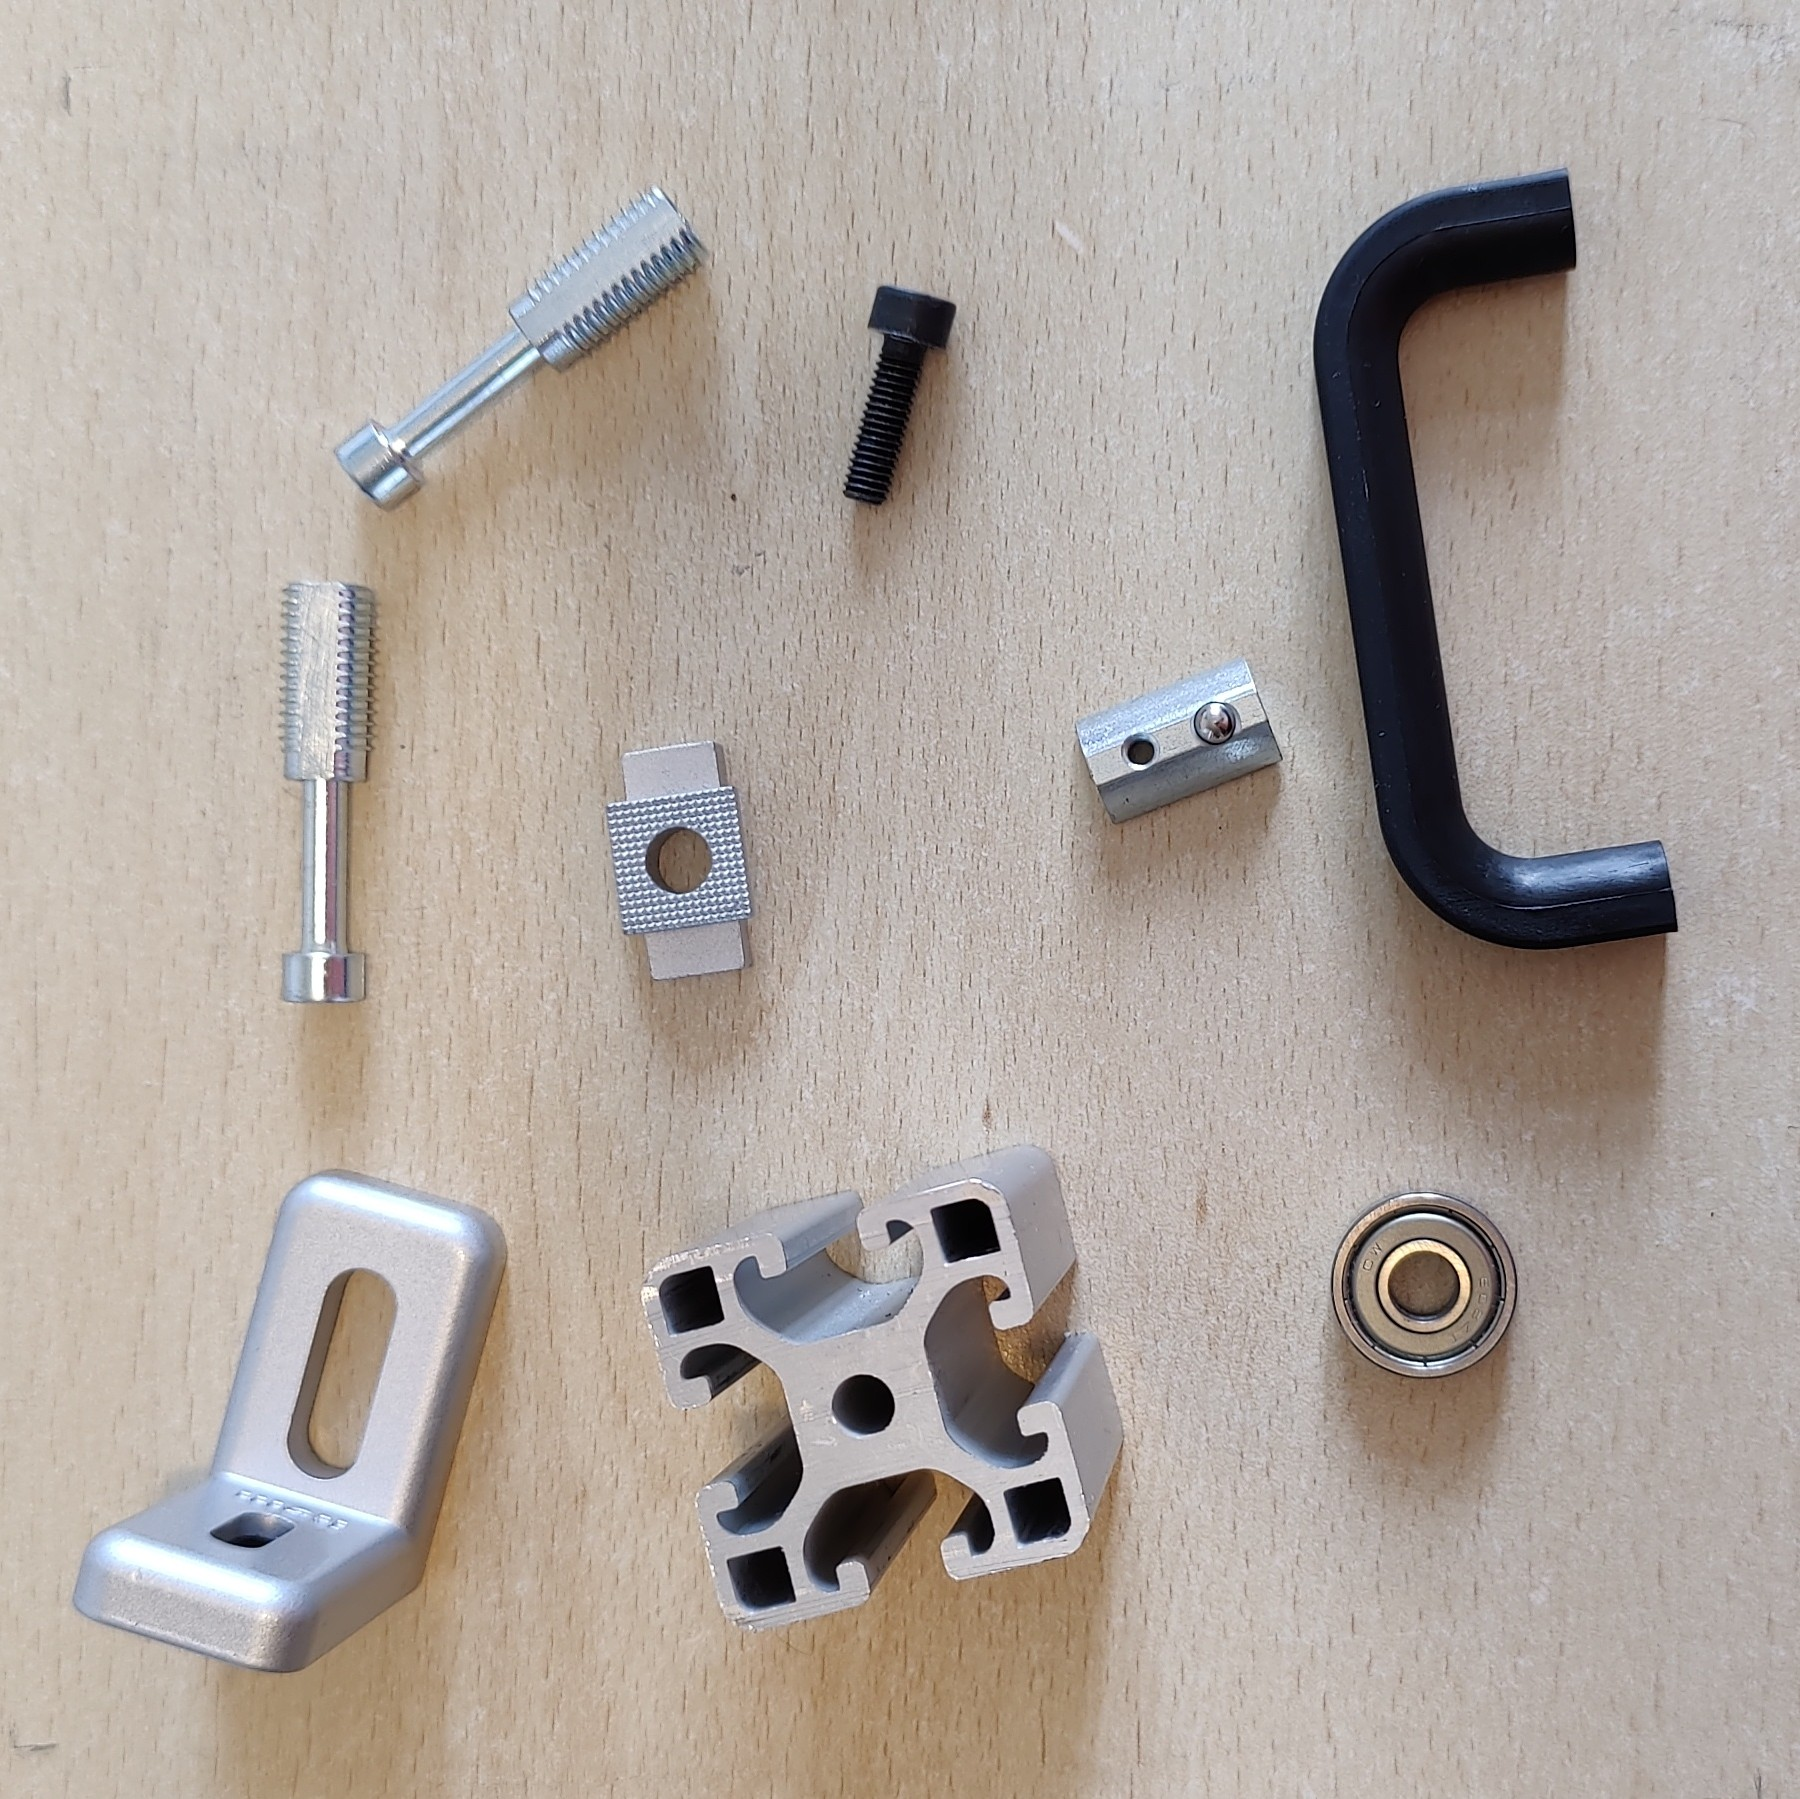Aluminium Extension: (637, 1142, 1126, 1634)
Ball Bearing: (1331, 1189, 1520, 1379)
Multiwinkel: (68, 1165, 509, 1675)
Pull Handle: (1309, 160, 1681, 952)
Shoulder Socket Head Cap Screw: (329, 180, 713, 516), (273, 577, 382, 1012)
Socket Head Cap Screw: (838, 282, 958, 511)
T Nut Square: (604, 740, 758, 984)
T Spring Nut: (1074, 656, 1283, 827)
